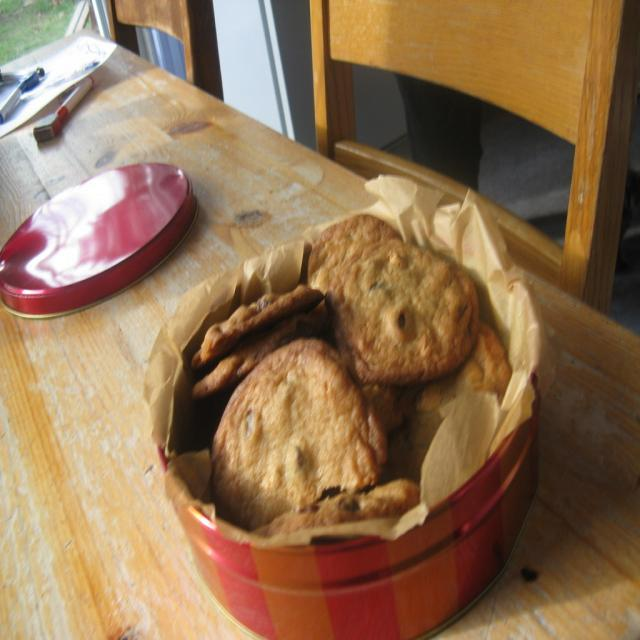Cookie: (185, 213, 512, 539)
